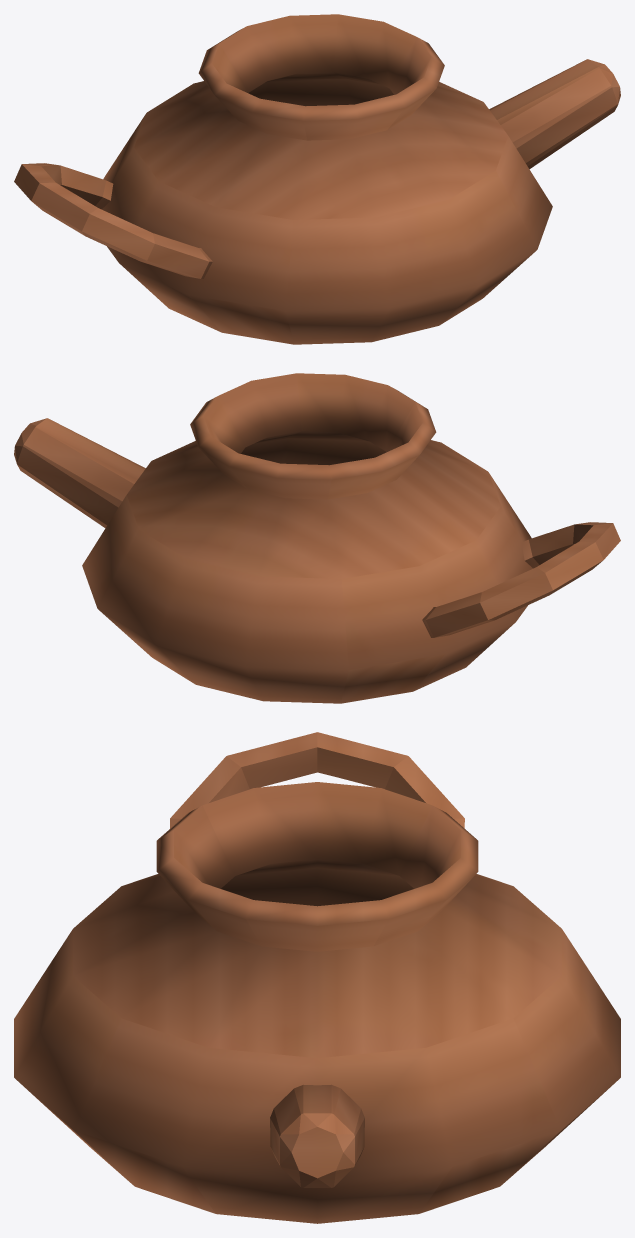
File: p_oillamp.glb
The picture shows the model from 3 angles, top to bottom: view 1: azimuth 30°, elevation 25°; view 2: azimuth 150°, elevation 25°; view 3: azimuth 270°, elevation 25°; orthographic projection. The views are drawn at different scales.
Parts seen in each view (by area): view 1: oillamp; view 2: oillamp; view 3: oillamp.
Part boxes in pixels (bbox=[...]): oillamp: bbox=[14, 14, 620, 344]; oillamp: bbox=[14, 373, 620, 703]; oillamp: bbox=[14, 732, 620, 1223].
Size of the model in its own units: 0.2968 by 0.1144 by 0.1997.
Materials: 1 (1 with a texture image).
